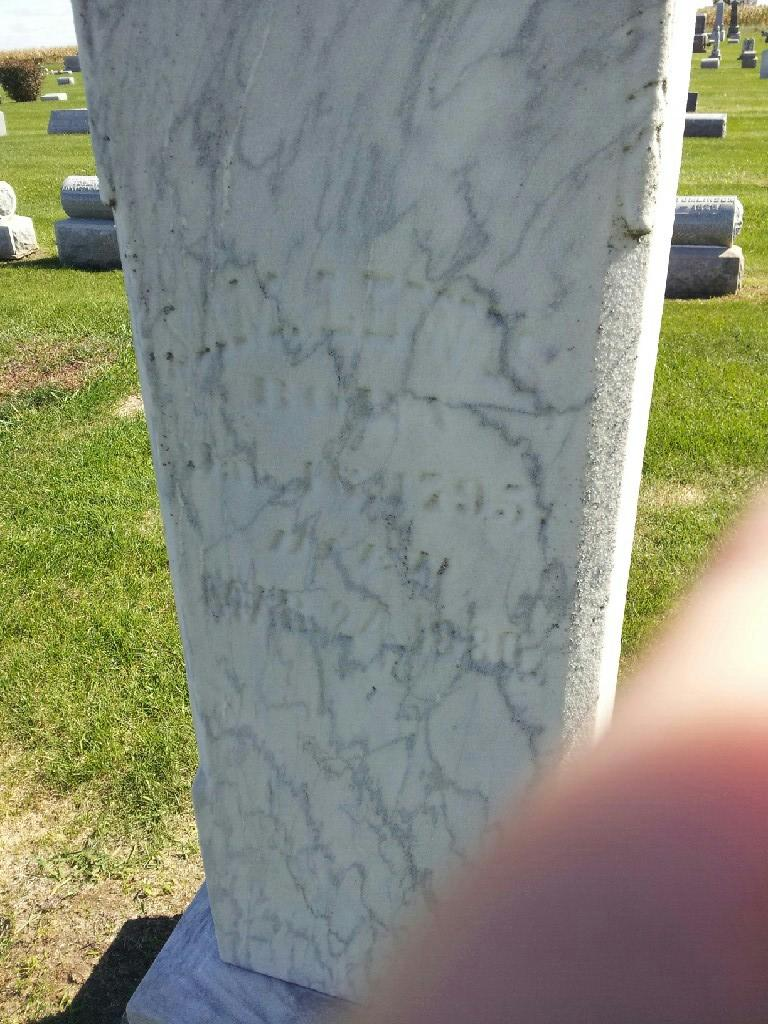upright: (72, 0, 695, 990)
